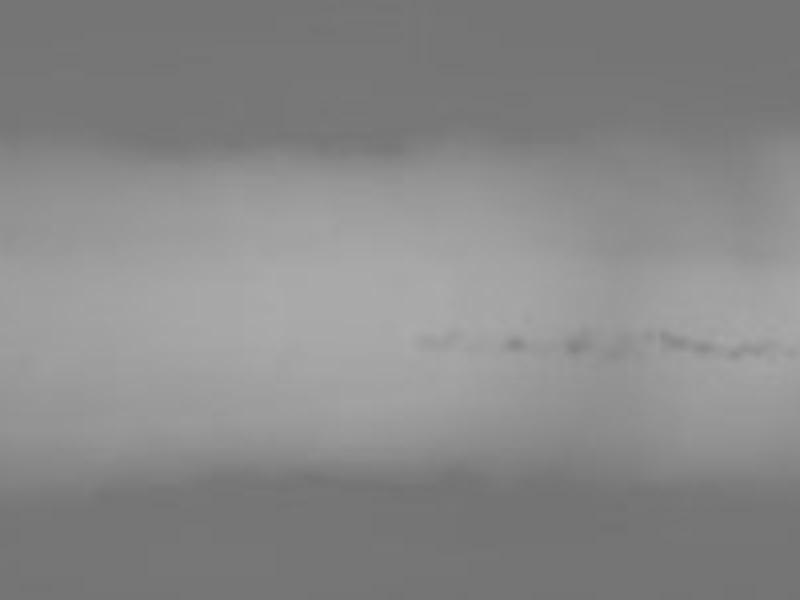defect: (656, 327, 718, 361), (564, 325, 596, 356), (726, 337, 770, 359), (606, 341, 637, 365), (439, 325, 462, 352), (415, 330, 440, 350), (496, 334, 528, 349), (636, 325, 654, 345)
